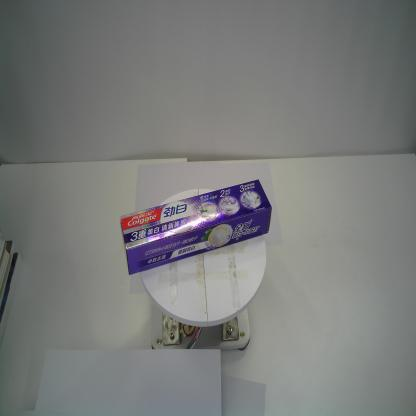Personal Hygiene: (118, 178, 273, 278)
